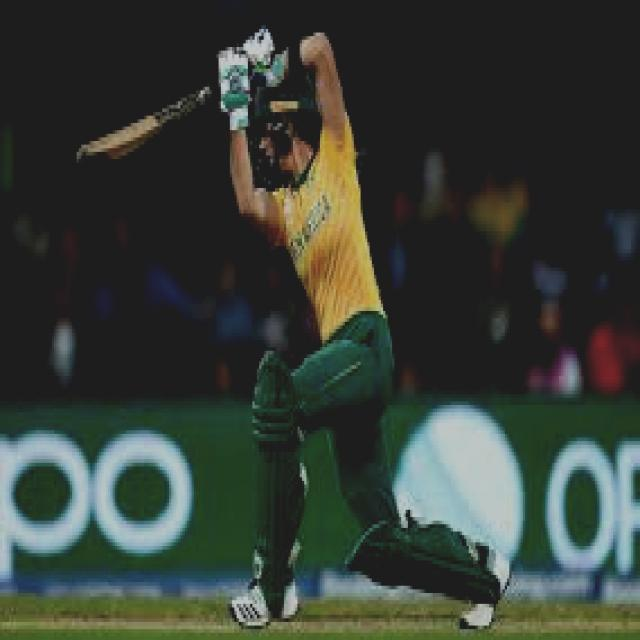bat: (58, 85, 226, 177)
toe: (74, 146, 111, 171)
